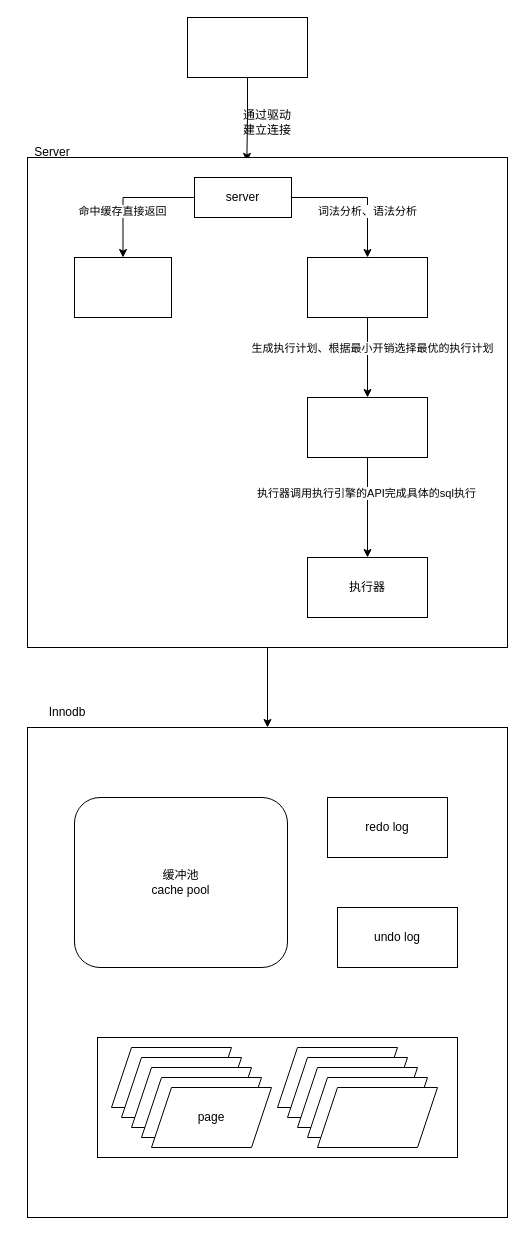
Image size: 525x1235. Some labels were removed from this diagram. Each missing label, with the box of its shape:
Client: (186, 16, 308, 78)
优化器: (306, 396, 428, 458)
分析器: (306, 256, 428, 318)
查询缓存: (74, 256, 172, 318)
